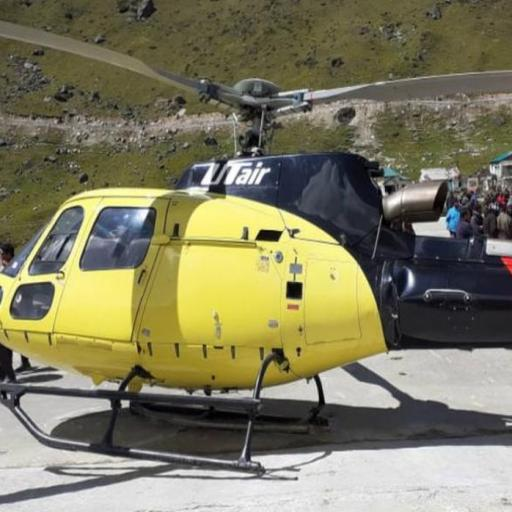helicopter: (4, 36, 510, 472)
